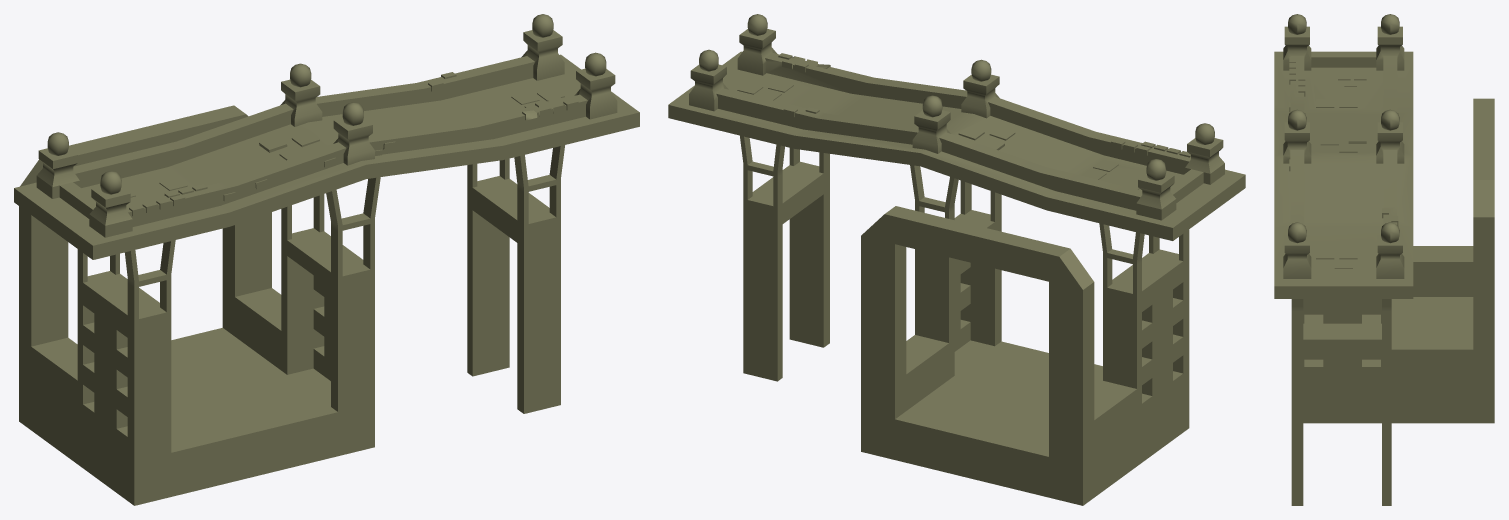
File: rock_bridge01.fbx
3 renders of one model, left to right at view 1: azimuth 30°, elevation 25°; view 2: azimuth 150°, elevation 25°; view 3: azimuth 270°, elevation 25°, orthographic. The views are drawn at different scales.
Visible parts, largest first — view 1: rock_bridge01pilars, rock_bridge01main, rock_bridge01pilars02; view 2: rock_bridge01pilars, rock_bridge01main, rock_bridge01pilars02; view 3: rock_bridge01main, rock_bridge01pilars, rock_bridge01pilars02.
Part boxes in pixels (<box>): rock_bridge01pilars: <box>19,105,380,505</box>; rock_bridge01main: <box>14,14,639,259</box>; rock_bridge01pilars02: <box>467,145,564,413</box>; rock_bridge01pilars: <box>861,165,1189,505</box>; rock_bridge01main: <box>668,14,1245,240</box>; rock_bridge01pilars02: <box>740,135,829,381</box>; rock_bridge01main: <box>1274,14,1413,298</box>; rock_bridge01pilars: <box>1303,98,1494,423</box>; rock_bridge01pilars02: <box>1291,299,1391,505</box>.
Size of the model in its own units: 13.7 by 8.36 by 5.43.
